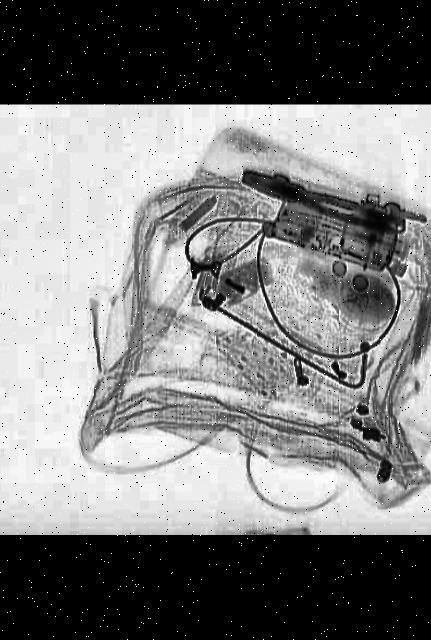Pliers: (232, 168, 395, 235)
